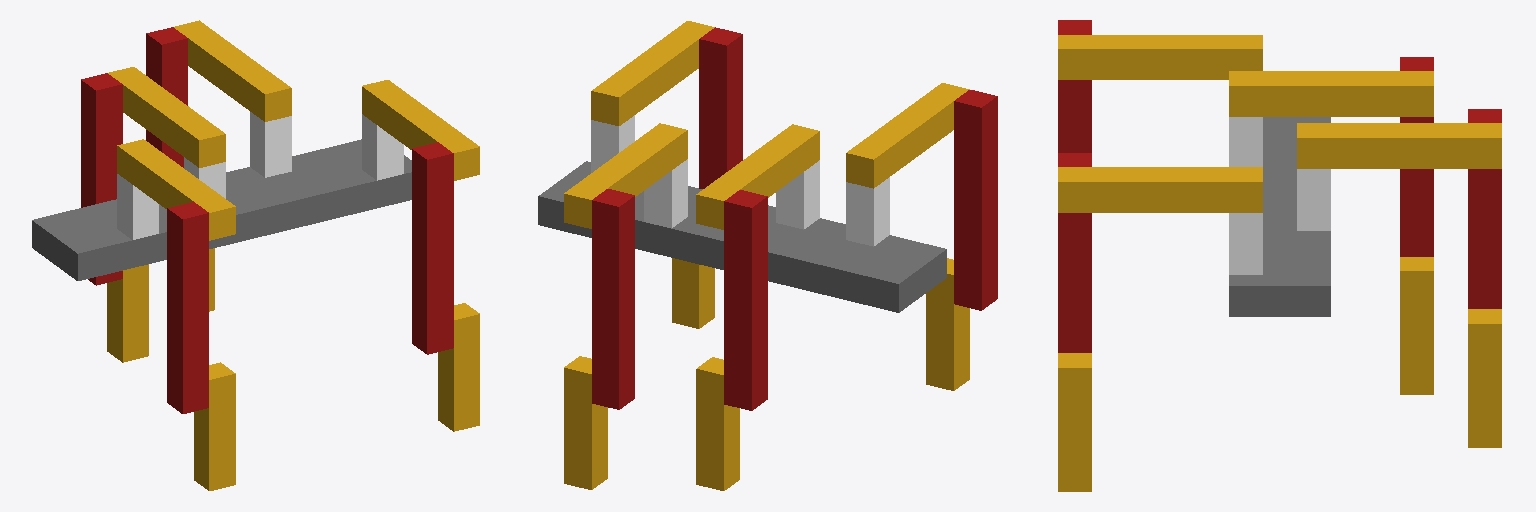
The robot description file, URDF, robot "v0":
<?xml version="1.0" encoding="utf-8"?>
<!-- =================================================================================== -->
<!-- |    This document was autogenerated by xacro from ../robots/v0variants/xacros/v0_4l_28.xacro | -->
<!-- |    EDITING THIS FILE BY HAND IS NOT RECOMMENDED                                 | -->
<!-- =================================================================================== -->
<robot name="v0">
  <material name="grey">
    <color rgba="0.5 0.5 0.5 1"/>
  </material>
  <material name="white">
    <color rgba="1 1 1 1"/>
  </material>
  <material name="yellow">
    <color rgba="0.91 0.7 0.14 1"/>
  </material>
  <material name="red">
    <color rgba="0.71 0.14 0.14 1"/>
  </material>
  <link name="body">
    <visual>
      <geometry>
        <box size="1.3 0.3 0.1"/>
      </geometry>
      <material name="grey"/>
      <origin rpy="0 0 0" xyz="0 0 0.7"/>
    </visual>
    <collision>
      <geometry>
        <box size="1.3 0.3 0.1"/>
      </geometry>
      <origin rpy="0 0 0" xyz="0 0 0.7"/>
    </collision>
    <inertial>
      <mass value="99.84"/>
      <inertia ixx="0.832" ixy="0.0" ixz="0.0" iyy="14.144" iyz="0.0" izz="14.8096"/>
    </inertial>
  </link>
  <link name="l1_segment_1">
    <visual>
      <geometry>
        <box size="0.1 0.1 0.2"/>
      </geometry>
      <material name="white"/>
      <origin rpy="0 0 0" xyz="0 0 0.1"/>
    </visual>
    <collision>
      <geometry>
        <box size="0.1 0.1 0.2"/>
      </geometry>
      <origin rpy="0 0 0" xyz="0 0 0.1"/>
    </collision>
    <inertial>
      <mass value="5.12"/>
      <inertia ixx="0.0213333333333" ixy="0.0" ixz="0.0" iyy="0.0213333333333" iyz="0.0" izz="0.00853333333333"/>
    </inertial>
  </link>
  <joint name="l1_base_to_joint_1" type="fixed">
    <parent link="body"/>
    <child link="l1_segment_1"/>
    <origin rpy="0 0 0" xyz="0.2193719659357426 0.1 0.75"/>
  </joint>
  <link name="l1_segment_2_HIP">
    <visual>
      <geometry>
        <box size="0.1 0.6 0.1"/>
      </geometry>
      <material name="yellow"/>
      <origin rpy="0 0 0" xyz="0 0.25 0"/>
    </visual>
    <collision>
      <geometry>
        <box size="0.1 0.6 0.1"/>
      </geometry>
      <origin rpy="0 0 0" xyz="0 0.25 0"/>
    </collision>
    <inertial>
      <mass value="15.36"/>
      <inertia ixx="0.4736" ixy="0.0" ixz="0.0" iyy="0.0256" iyz="0.0" izz="0.4736"/>
    </inertial>
  </link>
  <joint name="l1_joint_1_to_2" type="revolute">
    <parent link="l1_segment_1"/>
    <child link="l1_segment_2_HIP"/>
    <origin rpy="0 0 0" xyz="0 0 0.25"/>
    <axis xyz="0.0 0.0 1.0"/>
    <limit effort="2048" lower="-1.2" upper="1.2" velocity="20"/>
  </joint>
  <link name="l1_segment_3_THIGH">
    <visual>
      <geometry>
        <box size="0.1 0.1 0.7"/>
      </geometry>
      <material name="red"/>
      <origin rpy="0 0 0" xyz="0 0 -0.3"/>
    </visual>
    <collision>
      <geometry>
        <box size="0.1 0.1 0.7"/>
      </geometry>
      <origin rpy="0 0 0" xyz="0 0 -0.3"/>
    </collision>
    <inertial>
      <mass value="17.92"/>
      <inertia ixx="0.746666666667" ixy="0.0" ixz="0.0" iyy="0.746666666667" iyz="0.0" izz="0.0298666666667"/>
    </inertial>
  </link>
  <joint name="l1_joint_2_to_3" type="revolute">
    <parent link="l1_segment_2_HIP"/>
    <child link="l1_segment_3_THIGH"/>
    <origin rpy="0 0 0" xyz="-0.1 0.5 0"/>
    <axis xyz="1.0 0.0 0.0"/>
    <limit effort="2048" lower="-0.2" upper="0.75" velocity="20"/>
  </joint>
  <link name="l1_segment_4_FOOT">
    <visual>
      <geometry>
        <box size="0.1 0.1 0.4"/>
      </geometry>
      <material name="yellow"/>
      <origin rpy="0 0 0" xyz="0 0 -0.2"/>
    </visual>
    <collision>
      <geometry>
        <box size="0.1 0.1 0.4"/>
      </geometry>
      <origin rpy="0 0 0" xyz="0 0 -0.2"/>
    </collision>
    <inertial>
      <mass value="10.24"/>
      <inertia ixx="0.145066666667" ixy="0.0" ixz="0.0" iyy="0.145066666667" iyz="0.0" izz="0.0170666666667"/>
    </inertial>
  </link>
  <joint name="l1_joint_3_to_4_FOOT" type="revolute">
    <parent link="l1_segment_3_THIGH"/>
    <child link="l1_segment_4_FOOT"/>
    <origin rpy="0 0 0" xyz="0.1 0 -0.55"/>
    <axis xyz="1.0 0.0 0.0"/>
    <limit effort="2048" lower="-0.2" upper="0.5" velocity="20"/>
  </joint>
  <link name="r2_segment_1">
    <visual>
      <geometry>
        <box size="0.1 0.1 0.2"/>
      </geometry>
      <material name="white"/>
      <origin rpy="0 0 0" xyz="0 0 0.1"/>
    </visual>
    <collision>
      <geometry>
        <box size="0.1 0.1 0.2"/>
      </geometry>
      <origin rpy="0 0 0" xyz="0 0 0.1"/>
    </collision>
    <inertial>
      <mass value="5.12"/>
      <inertia ixx="0.0213333333333" ixy="0.0" ixz="0.0" iyy="0.0213333333333" iyz="0.0" izz="0.00853333333333"/>
    </inertial>
  </link>
  <joint name="r2_base_to_joint_1" type="fixed">
    <parent link="body"/>
    <child link="r2_segment_1"/>
    <origin rpy="0 0 0" xyz="-0.39396991829831934 -0.1 0.75"/>
  </joint>
  <link name="r2_segment_2_HIP">
    <visual>
      <geometry>
        <box size="0.1 0.6 0.1"/>
      </geometry>
      <material name="yellow"/>
      <origin rpy="0 0 0" xyz="0 -0.25 0"/>
    </visual>
    <collision>
      <geometry>
        <box size="0.1 0.6 0.1"/>
      </geometry>
      <origin rpy="0 0 0" xyz="0 -0.25 0"/>
    </collision>
    <inertial>
      <mass value="15.36"/>
      <inertia ixx="0.4736" ixy="0.0" ixz="0.0" iyy="0.0256" iyz="0.0" izz="0.4736"/>
    </inertial>
  </link>
  <joint name="r2_joint_1_to_2" type="revolute">
    <parent link="r2_segment_1"/>
    <child link="r2_segment_2_HIP"/>
    <origin rpy="0 0 0" xyz="0 0 0.25"/>
    <axis xyz="0.0 0.0 1.0"/>
    <limit effort="2048" lower="-1.2" upper="1.2" velocity="20"/>
  </joint>
  <link name="r2_segment_3_THIGH">
    <visual>
      <geometry>
        <box size="0.1 0.1 0.7"/>
      </geometry>
      <material name="red"/>
      <origin rpy="0 0 0" xyz="0 0 -0.3"/>
    </visual>
    <collision>
      <geometry>
        <box size="0.1 0.1 0.7"/>
      </geometry>
      <origin rpy="0 0 0" xyz="0 0 -0.3"/>
    </collision>
    <inertial>
      <mass value="17.92"/>
      <inertia ixx="0.746666666667" ixy="0.0" ixz="0.0" iyy="0.746666666667" iyz="0.0" izz="0.0298666666667"/>
    </inertial>
  </link>
  <joint name="r2_joint_2_to_3" type="revolute">
    <parent link="r2_segment_2_HIP"/>
    <child link="r2_segment_3_THIGH"/>
    <origin rpy="0 0 0" xyz="-0.1 -0.5 0"/>
    <axis xyz="1.0 0.0 0.0"/>
    <limit effort="2048" lower="-0.75" upper="0.2" velocity="20"/>
  </joint>
  <link name="r2_segment_4_FOOT">
    <visual>
      <geometry>
        <box size="0.1 0.1 0.4"/>
      </geometry>
      <material name="yellow"/>
      <origin rpy="0 0 0" xyz="0 0 -0.2"/>
    </visual>
    <collision>
      <geometry>
        <box size="0.1 0.1 0.4"/>
      </geometry>
      <origin rpy="0 0 0" xyz="0 0 -0.2"/>
    </collision>
    <inertial>
      <mass value="10.24"/>
      <inertia ixx="0.145066666667" ixy="0.0" ixz="0.0" iyy="0.145066666667" iyz="0.0" izz="0.0170666666667"/>
    </inertial>
  </link>
  <joint name="r2_joint_3_to_4_FOOT" type="revolute">
    <parent link="r2_segment_3_THIGH"/>
    <child link="r2_segment_4_FOOT"/>
    <origin rpy="0 0 0" xyz="0.1 0 -0.55"/>
    <axis xyz="1.0 0.0 0.0"/>
    <limit effort="2048" lower="-0.5" upper="0.2" velocity="20"/>
  </joint>
  <link name="l3_segment_1">
    <visual>
      <geometry>
        <box size="0.1 0.1 0.2"/>
      </geometry>
      <material name="white"/>
      <origin rpy="0 0 0" xyz="0 0 0.1"/>
    </visual>
    <collision>
      <geometry>
        <box size="0.1 0.1 0.2"/>
      </geometry>
      <origin rpy="0 0 0" xyz="0 0 0.1"/>
    </collision>
    <inertial>
      <mass value="5.12"/>
      <inertia ixx="0.0213333333333" ixy="0.0" ixz="0.0" iyy="0.0213333333333" iyz="0.0" izz="0.00853333333333"/>
    </inertial>
  </link>
  <joint name="l3_base_to_joint_1" type="fixed">
    <parent link="body"/>
    <child link="l3_segment_1"/>
    <origin rpy="0 0 0" xyz="-0.14270971255182147 -0.1 0.75"/>
  </joint>
  <link name="l3_segment_2_HIP">
    <visual>
      <geometry>
        <box size="0.1 0.6 0.1"/>
      </geometry>
      <material name="yellow"/>
      <origin rpy="0 0 0" xyz="0 0.25 0"/>
    </visual>
    <collision>
      <geometry>
        <box size="0.1 0.6 0.1"/>
      </geometry>
      <origin rpy="0 0 0" xyz="0 0.25 0"/>
    </collision>
    <inertial>
      <mass value="15.36"/>
      <inertia ixx="0.4736" ixy="0.0" ixz="0.0" iyy="0.0256" iyz="0.0" izz="0.4736"/>
    </inertial>
  </link>
  <joint name="l3_joint_1_to_2" type="revolute">
    <parent link="l3_segment_1"/>
    <child link="l3_segment_2_HIP"/>
    <origin rpy="0 0 0" xyz="0 0 0.25"/>
    <axis xyz="0.0 0.0 1.0"/>
    <limit effort="2048" lower="-1.2" upper="1.2" velocity="20"/>
  </joint>
  <link name="l3_segment_3_THIGH">
    <visual>
      <geometry>
        <box size="0.1 0.1 0.7"/>
      </geometry>
      <material name="red"/>
      <origin rpy="0 0 0" xyz="0 0 -0.3"/>
    </visual>
    <collision>
      <geometry>
        <box size="0.1 0.1 0.7"/>
      </geometry>
      <origin rpy="0 0 0" xyz="0 0 -0.3"/>
    </collision>
    <inertial>
      <mass value="17.92"/>
      <inertia ixx="0.746666666667" ixy="0.0" ixz="0.0" iyy="0.746666666667" iyz="0.0" izz="0.0298666666667"/>
    </inertial>
  </link>
  <joint name="l3_joint_2_to_3" type="revolute">
    <parent link="l3_segment_2_HIP"/>
    <child link="l3_segment_3_THIGH"/>
    <origin rpy="0 0 0" xyz="-0.1 0.5 0"/>
    <axis xyz="1.0 0.0 0.0"/>
    <limit effort="2048" lower="-0.2" upper="0.75" velocity="20"/>
  </joint>
  <link name="l3_segment_4_FOOT">
    <visual>
      <geometry>
        <box size="0.1 0.1 0.4"/>
      </geometry>
      <material name="yellow"/>
      <origin rpy="0 0 0" xyz="0 0 -0.2"/>
    </visual>
    <collision>
      <geometry>
        <box size="0.1 0.1 0.4"/>
      </geometry>
      <origin rpy="0 0 0" xyz="0 0 -0.2"/>
    </collision>
    <inertial>
      <mass value="10.24"/>
      <inertia ixx="0.145066666667" ixy="0.0" ixz="0.0" iyy="0.145066666667" iyz="0.0" izz="0.0170666666667"/>
    </inertial>
  </link>
  <joint name="l3_joint_3_to_4_FOOT" type="revolute">
    <parent link="l3_segment_3_THIGH"/>
    <child link="l3_segment_4_FOOT"/>
    <origin rpy="0 0 0" xyz="0.1 0 -0.55"/>
    <axis xyz="1.0 0.0 0.0"/>
    <limit effort="2048" lower="-0.2" upper="0.5" velocity="20"/>
  </joint>
  <link name="r4_segment_1">
    <visual>
      <geometry>
        <box size="0.1 0.1 0.2"/>
      </geometry>
      <material name="white"/>
      <origin rpy="0 0 0" xyz="0 0 0.1"/>
    </visual>
    <collision>
      <geometry>
        <box size="0.1 0.1 0.2"/>
      </geometry>
      <origin rpy="0 0 0" xyz="0 0 0.1"/>
    </collision>
    <inertial>
      <mass value="5.12"/>
      <inertia ixx="0.0213333333333" ixy="0.0" ixz="0.0" iyy="0.0213333333333" iyz="0.0" izz="0.00853333333333"/>
    </inertial>
  </link>
  <joint name="r4_base_to_joint_1" type="fixed">
    <parent link="body"/>
    <child link="r4_segment_1"/>
    <origin rpy="0 0 0" xyz="0.5240794769403995 -0.1 0.75"/>
  </joint>
  <link name="r4_segment_2_HIP">
    <visual>
      <geometry>
        <box size="0.1 0.6 0.1"/>
      </geometry>
      <material name="yellow"/>
      <origin rpy="0 0 0" xyz="0 -0.25 0"/>
    </visual>
    <collision>
      <geometry>
        <box size="0.1 0.6 0.1"/>
      </geometry>
      <origin rpy="0 0 0" xyz="0 -0.25 0"/>
    </collision>
    <inertial>
      <mass value="15.36"/>
      <inertia ixx="0.4736" ixy="0.0" ixz="0.0" iyy="0.0256" iyz="0.0" izz="0.4736"/>
    </inertial>
  </link>
  <joint name="r4_joint_1_to_2" type="revolute">
    <parent link="r4_segment_1"/>
    <child link="r4_segment_2_HIP"/>
    <origin rpy="0 0 0" xyz="0 0 0.25"/>
    <axis xyz="0.0 0.0 1.0"/>
    <limit effort="2048" lower="-1.2" upper="1.2" velocity="20"/>
  </joint>
  <link name="r4_segment_3_THIGH">
    <visual>
      <geometry>
        <box size="0.1 0.1 0.7"/>
      </geometry>
      <material name="red"/>
      <origin rpy="0 0 0" xyz="0 0 -0.3"/>
    </visual>
    <collision>
      <geometry>
        <box size="0.1 0.1 0.7"/>
      </geometry>
      <origin rpy="0 0 0" xyz="0 0 -0.3"/>
    </collision>
    <inertial>
      <mass value="17.92"/>
      <inertia ixx="0.746666666667" ixy="0.0" ixz="0.0" iyy="0.746666666667" iyz="0.0" izz="0.0298666666667"/>
    </inertial>
  </link>
  <joint name="r4_joint_2_to_3" type="revolute">
    <parent link="r4_segment_2_HIP"/>
    <child link="r4_segment_3_THIGH"/>
    <origin rpy="0 0 0" xyz="-0.1 -0.5 0"/>
    <axis xyz="1.0 0.0 0.0"/>
    <limit effort="2048" lower="-0.75" upper="0.2" velocity="20"/>
  </joint>
  <link name="r4_segment_4_FOOT">
    <visual>
      <geometry>
        <box size="0.1 0.1 0.4"/>
      </geometry>
      <material name="yellow"/>
      <origin rpy="0 0 0" xyz="0 0 -0.2"/>
    </visual>
    <collision>
      <geometry>
        <box size="0.1 0.1 0.4"/>
      </geometry>
      <origin rpy="0 0 0" xyz="0 0 -0.2"/>
    </collision>
    <inertial>
      <mass value="10.24"/>
      <inertia ixx="0.145066666667" ixy="0.0" ixz="0.0" iyy="0.145066666667" iyz="0.0" izz="0.0170666666667"/>
    </inertial>
  </link>
  <joint name="r4_joint_3_to_4_FOOT" type="revolute">
    <parent link="r4_segment_3_THIGH"/>
    <child link="r4_segment_4_FOOT"/>
    <origin rpy="0 0 0" xyz="0.1 0 -0.55"/>
    <axis xyz="1.0 0.0 0.0"/>
    <limit effort="2048" lower="-0.5" upper="0.2" velocity="20"/>
  </joint>
</robot>

--- Render facts (derived) ---
The picture shows the robot from 3 angles, left to right: view 1: azimuth 30°, elevation 25°; view 2: azimuth 150°, elevation 25°; view 3: azimuth 270°, elevation 25°; orthographic projection.
Robot: v0 — 17 links, 16 joints (12 revolute, 4 fixed); root link body; default pose: every joint at zero.
Visible links, largest first — view 1: body, r4_segment_3_THIGH, r2_segment_3_THIGH, l1_segment_2_HIP, l3_segment_2_HIP, l3_segment_3_THIGH, r2_segment_2_HIP, r4_segment_2_HIP, r2_segment_4_FOOT, r4_segment_4_FOOT, l3_segment_4_FOOT, l1_segment_3_THIGH (+4 smaller); view 2: body, r2_segment_3_THIGH, l3_segment_3_THIGH, l1_segment_3_THIGH, r4_segment_3_THIGH, r4_segment_2_HIP, r2_segment_2_HIP, l1_segment_2_HIP, l3_segment_2_HIP, l1_segment_4_FOOT, l3_segment_4_FOOT, r2_segment_4_FOOT (+5 smaller); view 3: body, l1_segment_2_HIP, l3_segment_2_HIP, r4_segment_2_HIP, r2_segment_2_HIP, l1_segment_3_THIGH, r4_segment_3_THIGH, l1_segment_4_FOOT, r4_segment_4_FOOT, l3_segment_4_FOOT, l3_segment_3_THIGH, r2_segment_3_THIGH (+3 smaller).
Link boxes in pixels (left/top/right/bottom): body: left=32, top=139, right=411, bottom=280; r4_segment_3_THIGH: left=412, top=142, right=453, bottom=354; r2_segment_3_THIGH: left=167, top=202, right=208, bottom=413; l1_segment_2_HIP: left=174, top=20, right=291, bottom=121; l3_segment_2_HIP: left=108, top=67, right=225, bottom=167; l3_segment_3_THIGH: left=81, top=73, right=122, bottom=285; r2_segment_2_HIP: left=117, top=139, right=235, bottom=240; r4_segment_2_HIP: left=362, top=80, right=479, bottom=180; r2_segment_4_FOOT: left=194, top=362, right=235, bottom=490; r4_segment_4_FOOT: left=438, top=303, right=479, bottom=431; l3_segment_4_FOOT: left=107, top=264, right=148, bottom=362; l1_segment_3_THIGH: left=146, top=27, right=187, bottom=167; body: left=538, top=161, right=946, bottom=312; r2_segment_3_THIGH: left=954, top=90, right=997, bottom=310; l3_segment_3_THIGH: left=724, top=190, right=767, bottom=410; l1_segment_3_THIGH: left=592, top=189, right=634, bottom=409; r4_segment_3_THIGH: left=699, top=27, right=742, bottom=188; r4_segment_2_HIP: left=591, top=21, right=714, bottom=125; r2_segment_2_HIP: left=846, top=83, right=969, bottom=188; l1_segment_2_HIP: left=564, top=123, right=687, bottom=228; l3_segment_2_HIP: left=696, top=124, right=819, bottom=229; l1_segment_4_FOOT: left=564, top=356, right=607, bottom=489; l3_segment_4_FOOT: left=696, top=357, right=739, bottom=490; r2_segment_4_FOOT: left=926, top=258, right=969, bottom=390; body: left=1229, top=117, right=1330, bottom=316; l1_segment_2_HIP: left=1297, top=123, right=1501, bottom=168; l3_segment_2_HIP: left=1229, top=71, right=1433, bottom=116; r4_segment_2_HIP: left=1058, top=167, right=1262, bottom=212; r2_segment_2_HIP: left=1058, top=35, right=1262, bottom=79; l1_segment_3_THIGH: left=1468, top=109, right=1501, bottom=308; r4_segment_3_THIGH: left=1058, top=153, right=1091, bottom=352; l1_segment_4_FOOT: left=1468, top=309, right=1501, bottom=447; r4_segment_4_FOOT: left=1058, top=353, right=1091, bottom=491; l3_segment_4_FOOT: left=1400, top=257, right=1433, bottom=394; l3_segment_3_THIGH: left=1400, top=57, right=1433, bottom=256; r2_segment_3_THIGH: left=1058, top=20, right=1091, bottom=152.
Bounding box of the posed robot: 1.3 × 1.3 × 1 m (x, y, z).
Geometry: primitives only (box / cylinder / sphere), no mesh files.